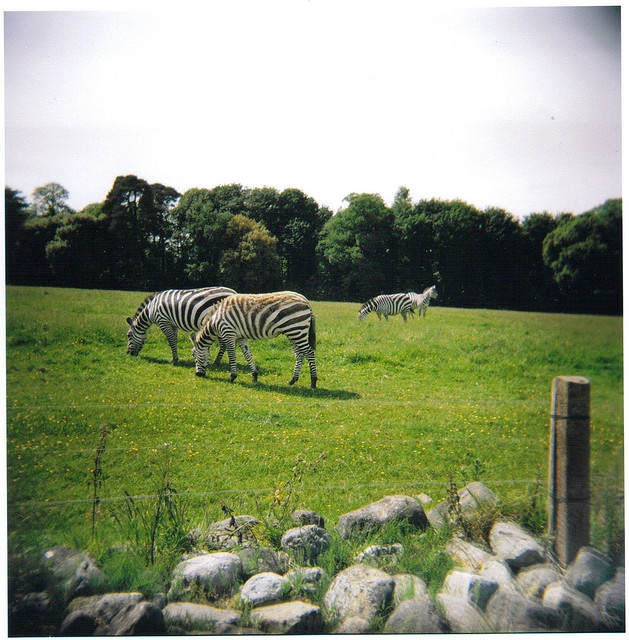zebra: (254, 340, 382, 440), (180, 325, 296, 408), (393, 308, 468, 340)
